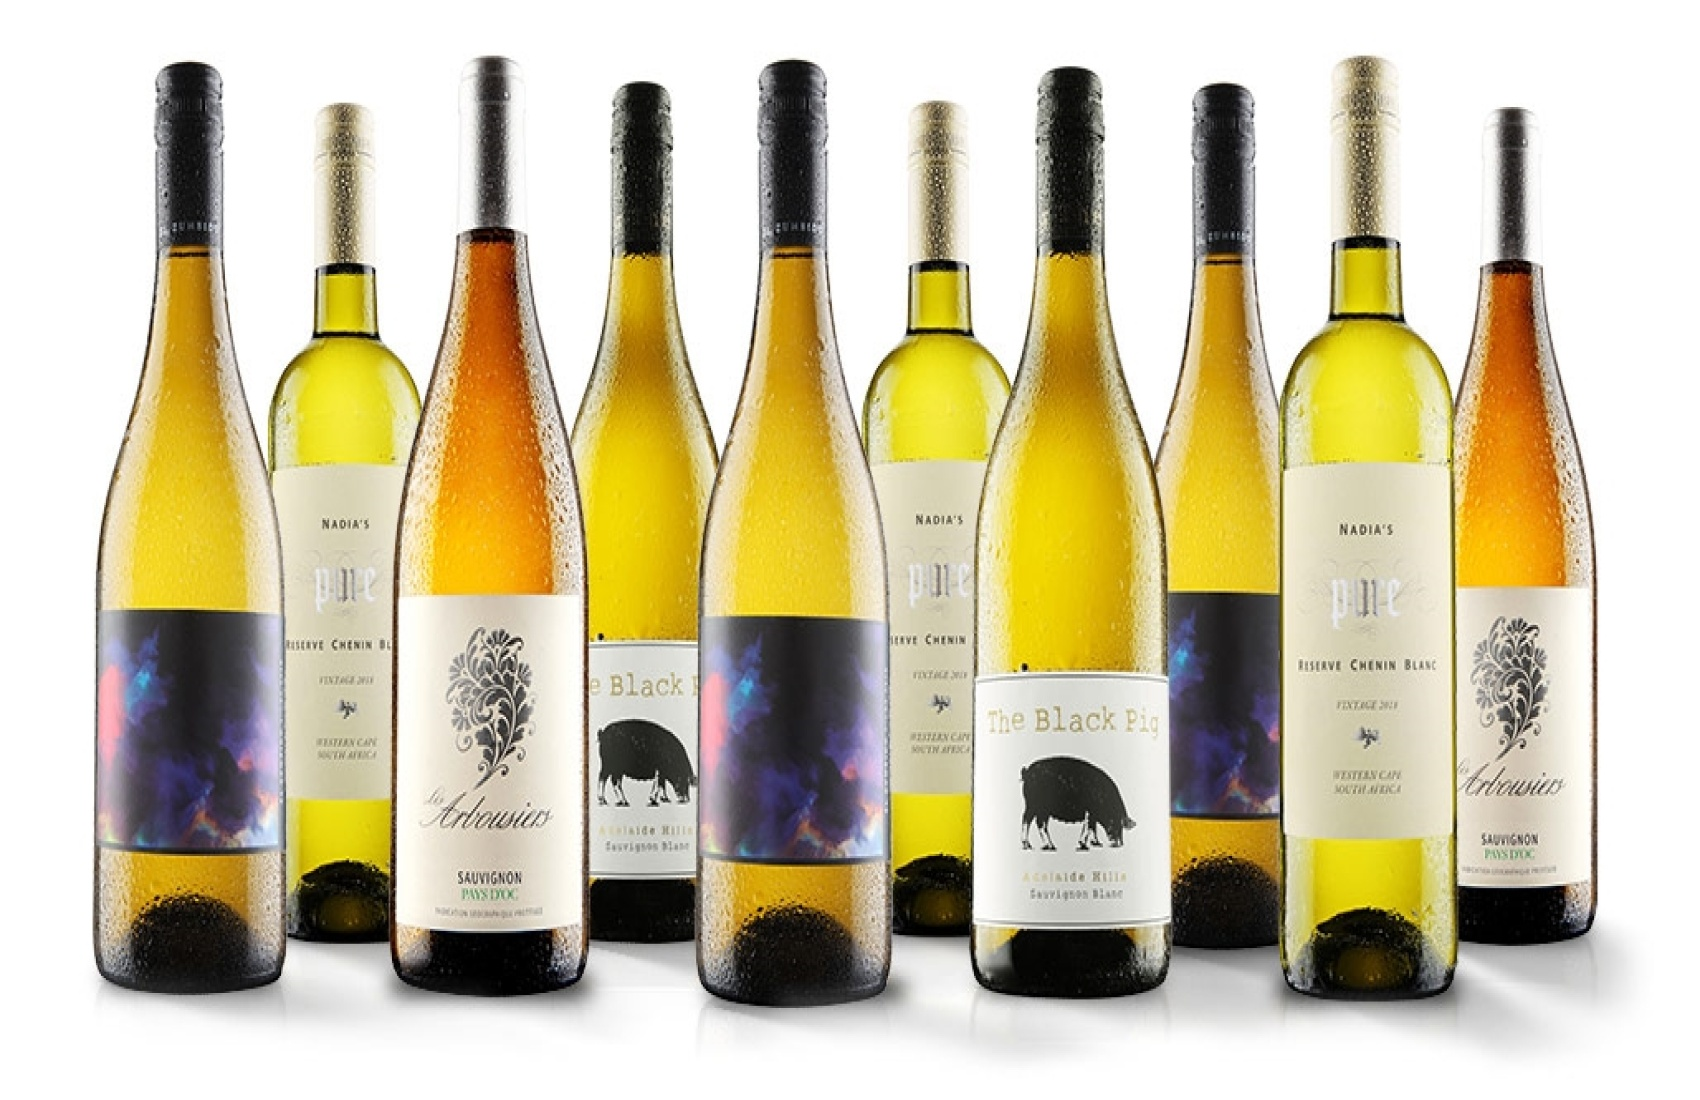wine: (980, 83, 1173, 989), (1282, 92, 1476, 997), (92, 77, 285, 982), (388, 64, 581, 969), (696, 92, 888, 997)
